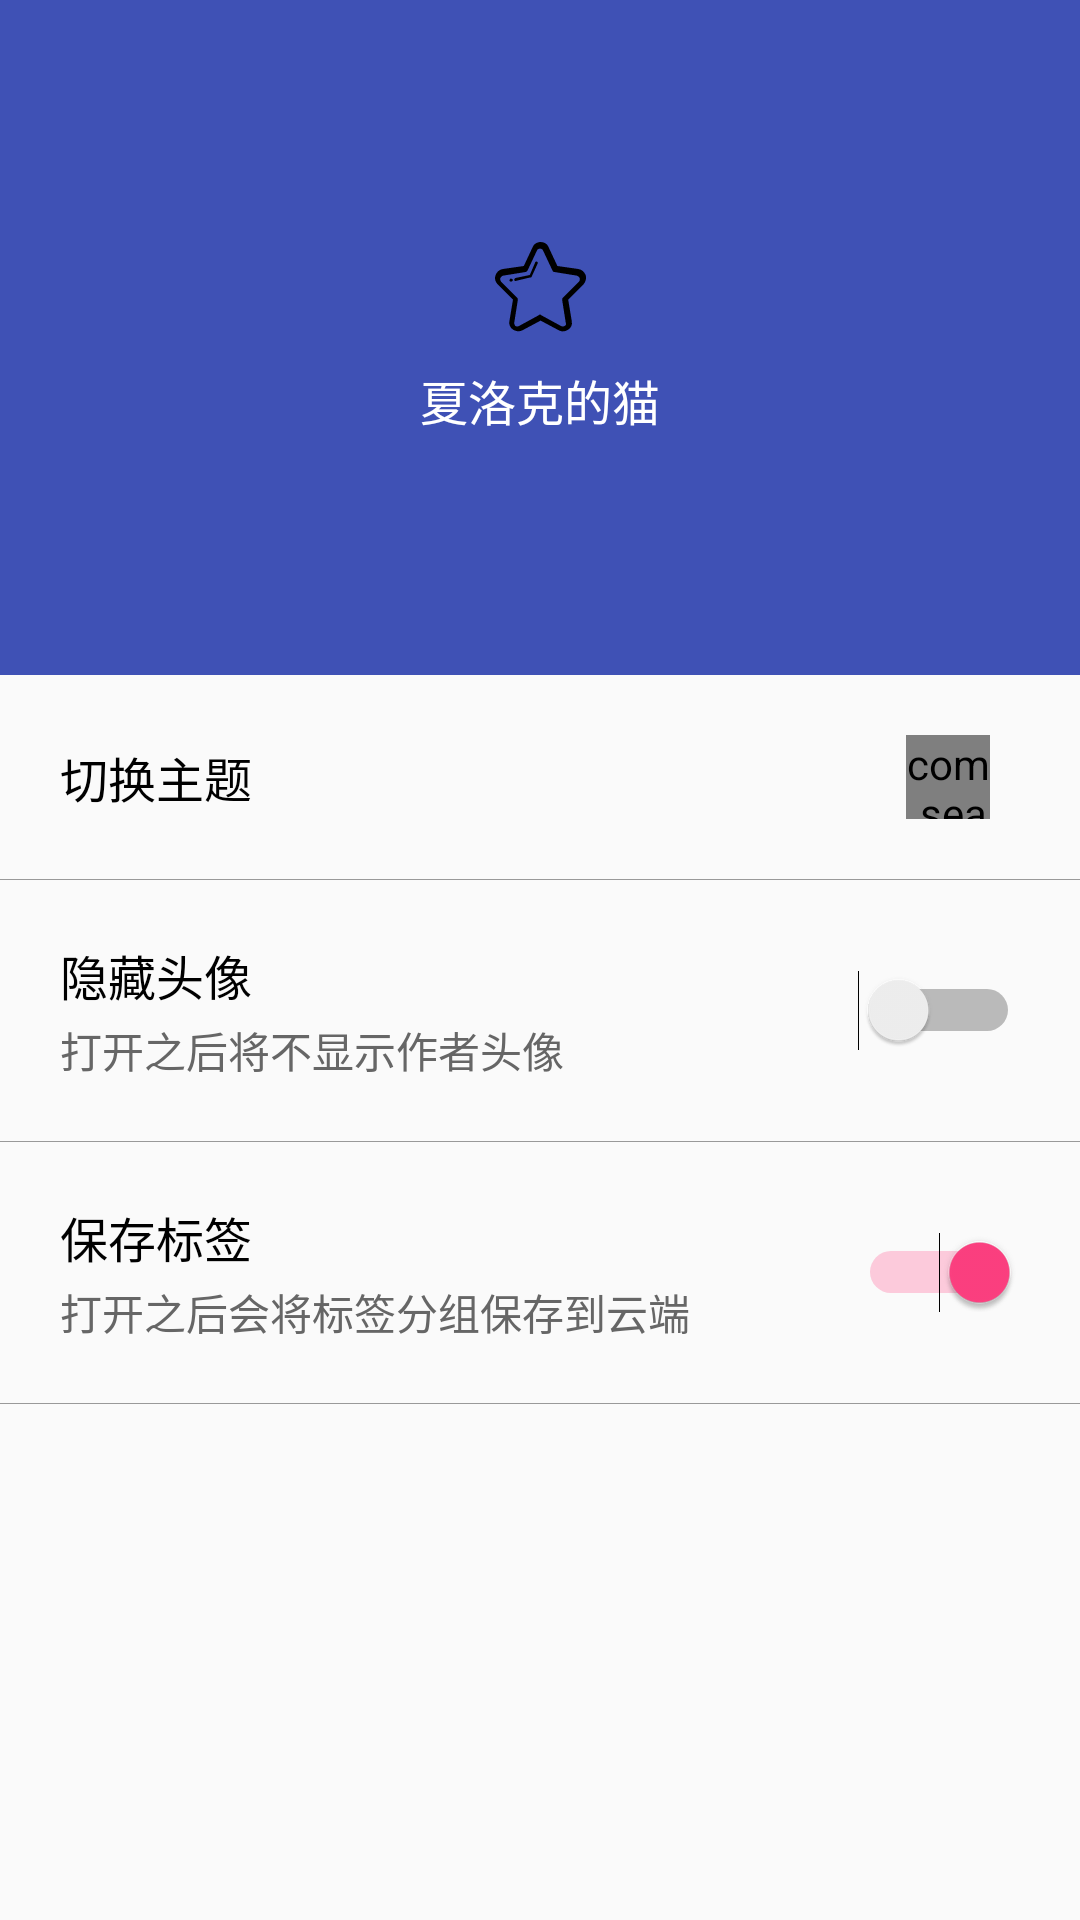

Where to tap for icons on this 1080×1920 app screen, as (x=x, y=y):
star: (x=540, y=287)
